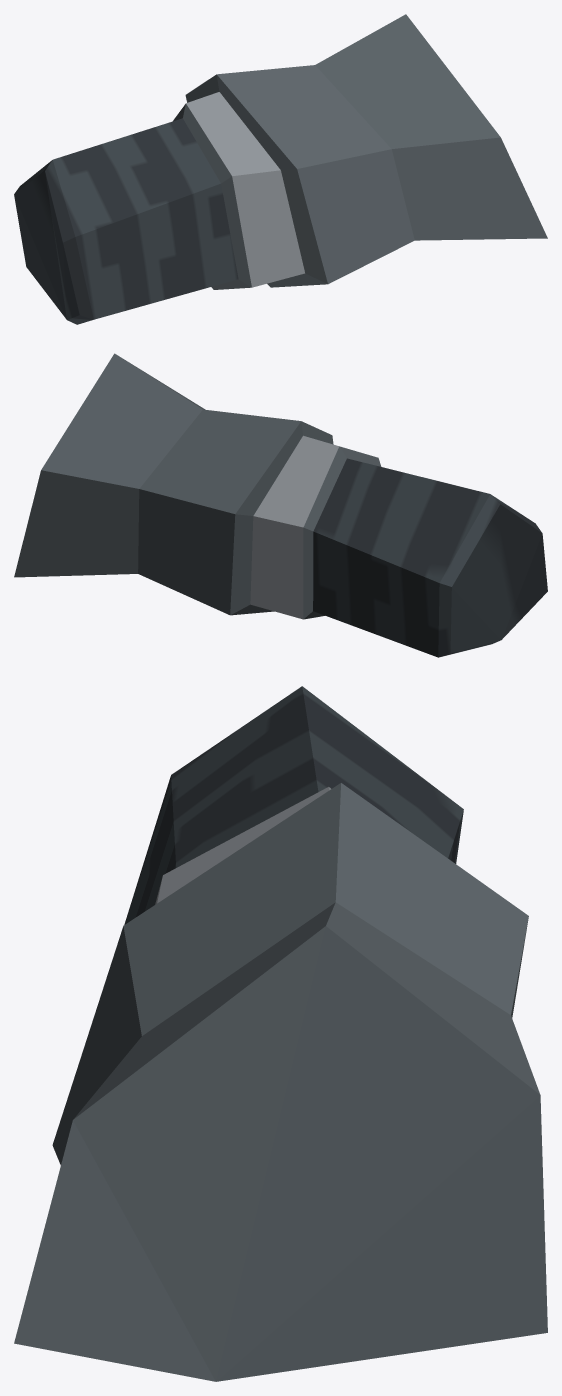
The model's file is Chr_ArmUpperRight_Male_05_Static.fbx.
3 renders of one model, top to bottom at view 1: azimuth 30°, elevation 25°; view 2: azimuth 150°, elevation 25°; view 3: azimuth 270°, elevation 25°, orthographic. The views are drawn at different scales.
Parts seen in each view (by area): view 1: Chr_ArmUpperRight_Male_05_Static; view 2: Chr_ArmUpperRight_Male_05_Static; view 3: Chr_ArmUpperRight_Male_05_Static.
Boxes of the visible parts, x1,y1,x2,y2 form: Chr_ArmUpperRight_Male_05_Static: (14,14,547,324); Chr_ArmUpperRight_Male_05_Static: (14,353,547,657); Chr_ArmUpperRight_Male_05_Static: (14,686,547,1381).
Size of the model in its own units: 0.3267 by 0.1586 by 0.1736.
